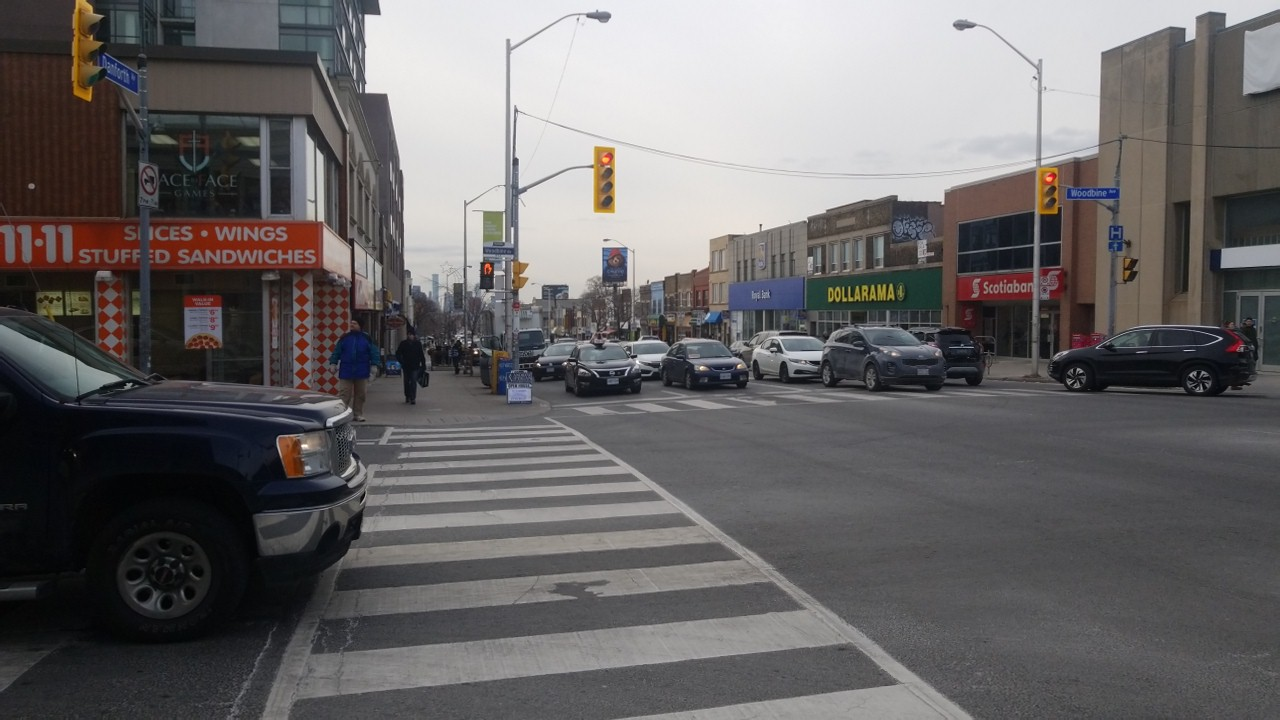light: (477, 259, 495, 290)
